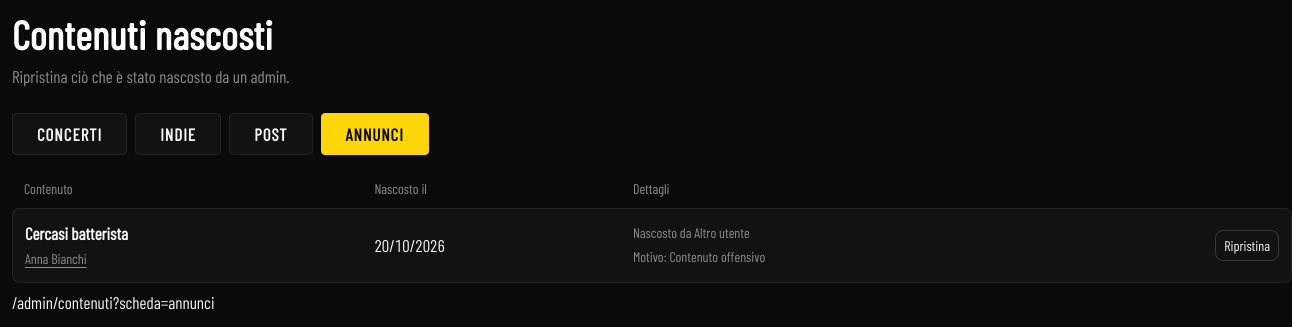
Scenario: HiddenContentPage · schede › apre la scheda indicata nell’indirizzo e al clic cambia scheda e indirizzo
The width and height of the screenshot is (1292, 327).
Check: the text "Cercasi batterista" is shown, box [25,223,128,243]
Check: the tab "Annunci" is shown, box [320,113,429,155]
Step 1. Click the tab "Post" → (271, 134), box [229,113,312,155]
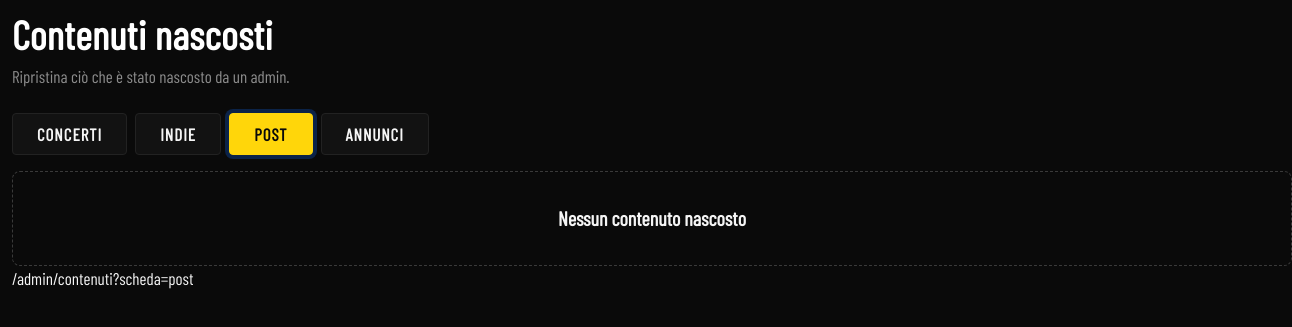
Check: the text "Nessun contenuto nascosto" is shown, box [558,206,746,230]
